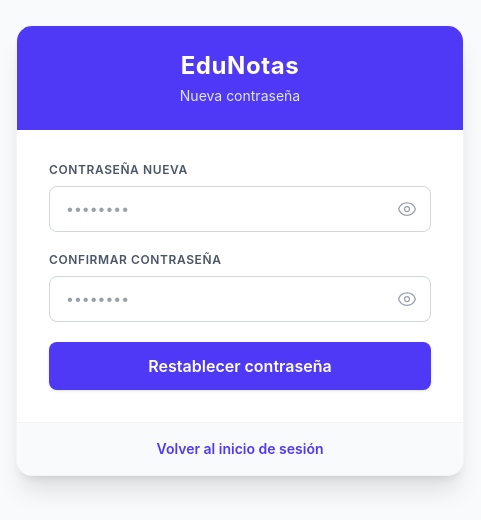
Scenario: ResetPasswordPage › rechaza si las contrasenas no coinciden
Type "nuevaClave123" into the password field labelled "Contraseña nueva". click: (240, 208)
box: [49,186,431,232]
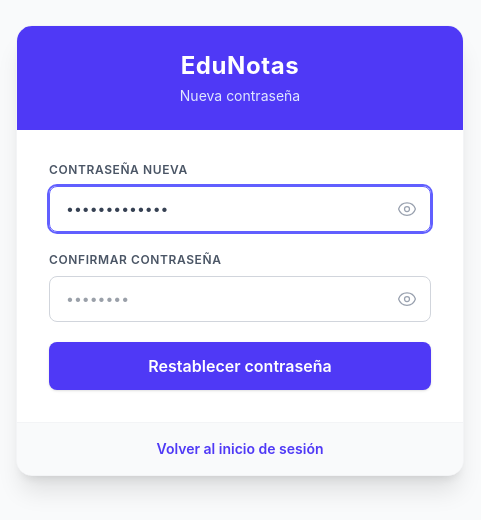
Type "otraClave" into the password field labelled "Confirmar contraseña". click: (240, 298)
box: [49,276,431,322]
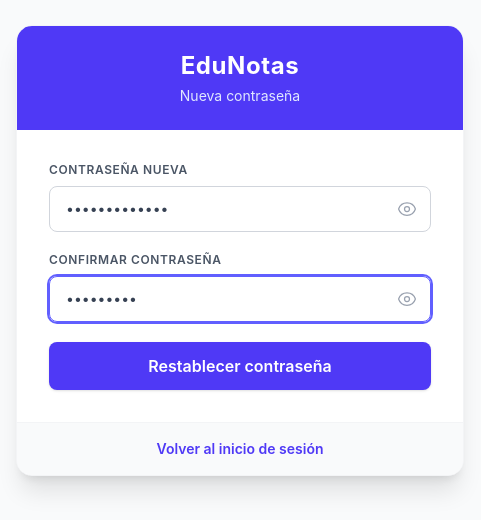
Click the button "Restablecer contraseña". click: (240, 366)
box: [49,342,431,390]
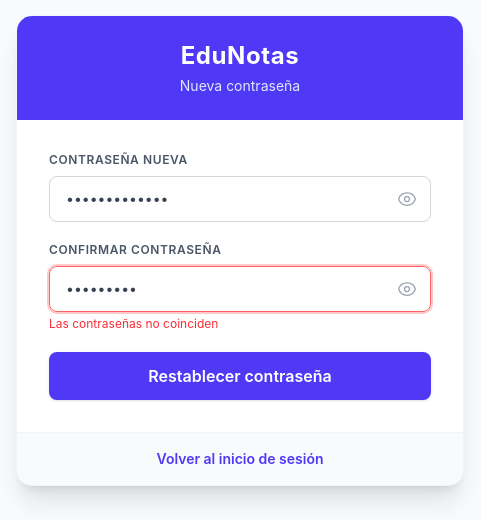
Expected: the text "Las contraseñas no coinciden" is shown, [49,316,218,330]
